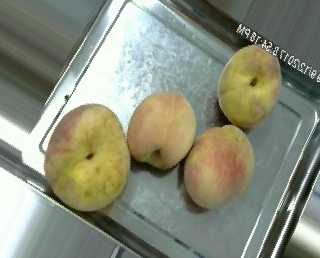Peach: (45, 103, 129, 211), (213, 42, 285, 128), (184, 124, 254, 208), (126, 89, 196, 169)
